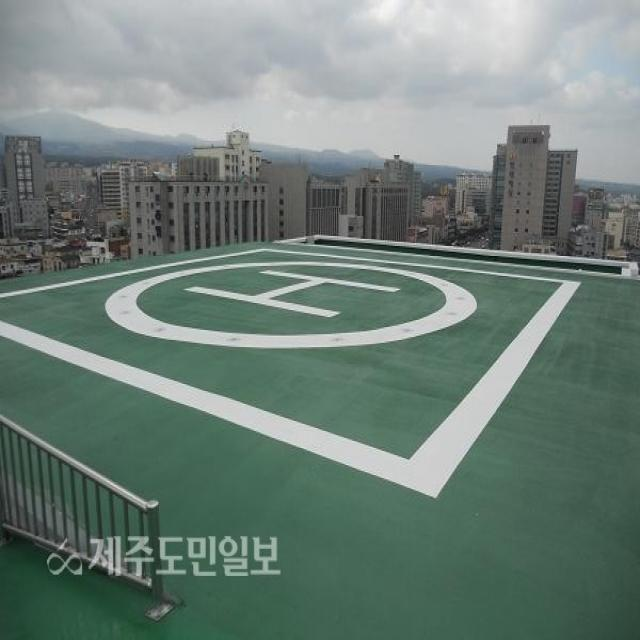helipad: (100, 253, 480, 353)
